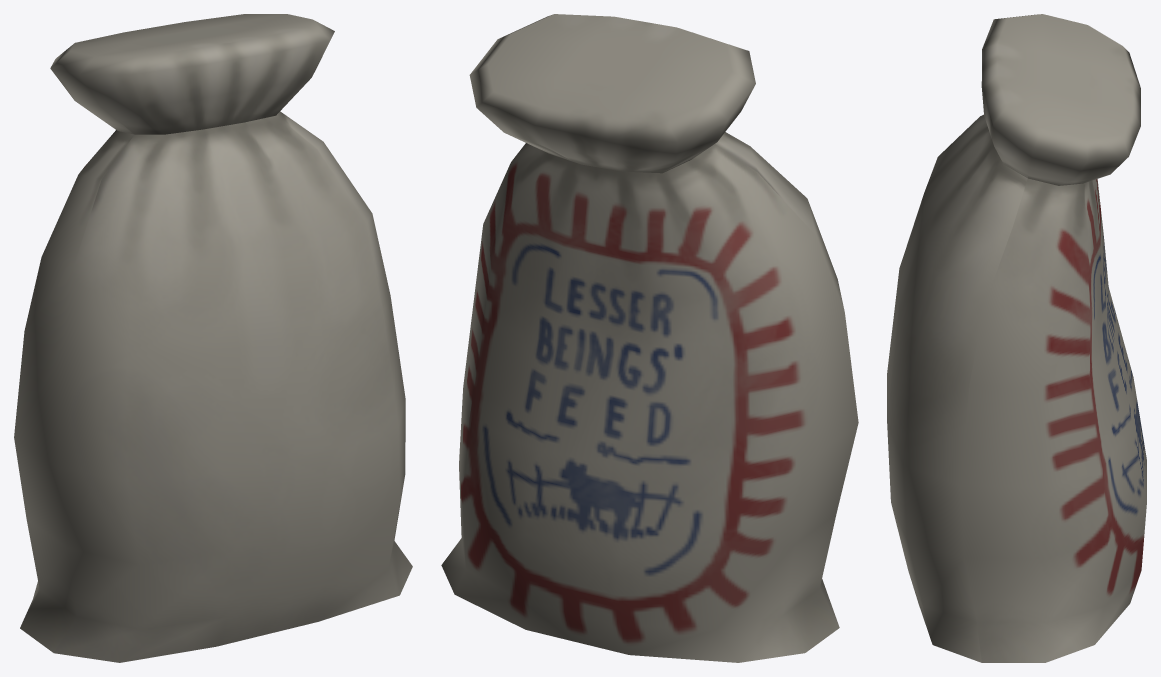
File: FeedSack03.fbx
3 renders of one model, left to right at view 1: azimuth 30°, elevation 25°; view 2: azimuth 150°, elevation 25°; view 3: azimuth 270°, elevation 25°, orthographic. The views are drawn at different scales.
Parts seen in each view (by area): view 1: FeedSack; view 2: FeedSack; view 3: FeedSack.
Part boxes in pixels (<box>): FeedSack: <box>14,14,412,662</box>; FeedSack: <box>441,14,858,662</box>; FeedSack: <box>887,14,1146,662</box>.
Size of the model in its own units: 4.51 by 6.83 by 2.96.
